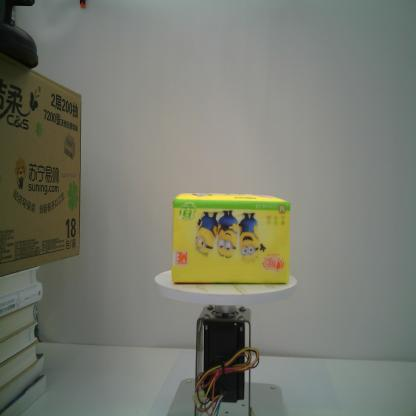Tissue: (170, 190, 292, 286)
